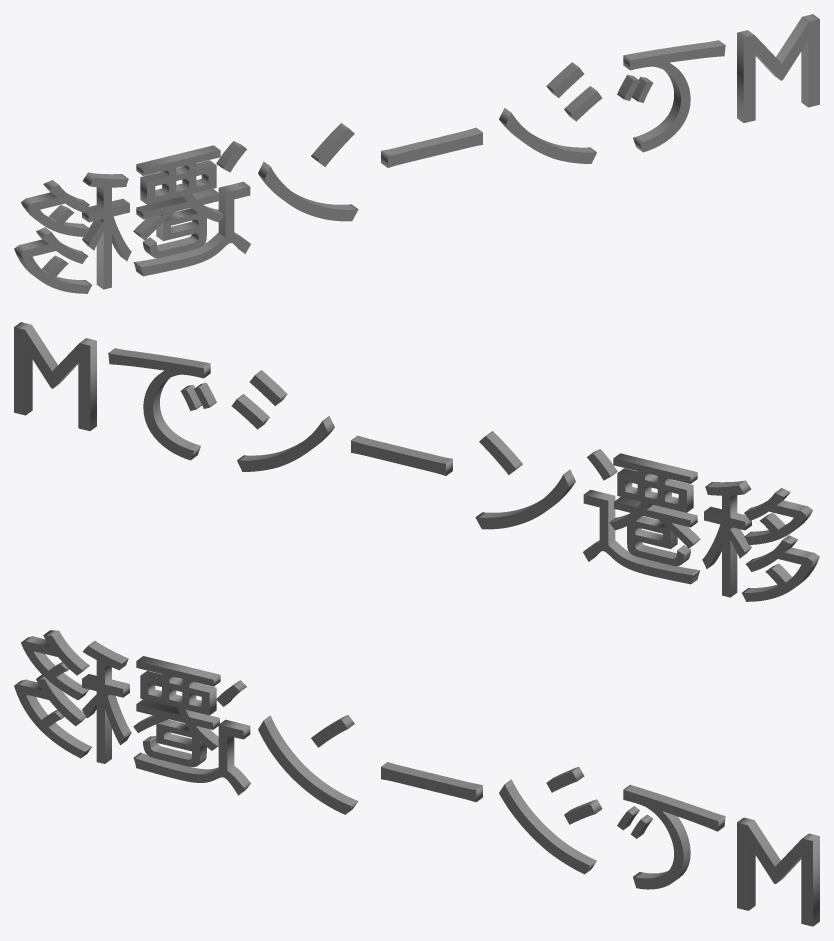
The model's file is transition.obj.
3 renders of one model, top to bottom at view 1: azimuth 30°, elevation 25°; view 2: azimuth 150°, elevation 25°; view 3: azimuth 330°, elevation 25°, orthographic.
Visible parts, largest first — view 1: Mでシーン遷移; view 2: Mでシーン遷移; view 3: Mでシーン遷移.
Boxes of the visible parts, x1,y1,x2,y2 form: Mでシーン遷移: (14,14,819,293); Mでシーン遷移: (14,322,819,601); Mでシーン遷移: (14,630,819,926).
Bounding box in the file's own units: 6.67 × 0.924 × 0.1.
